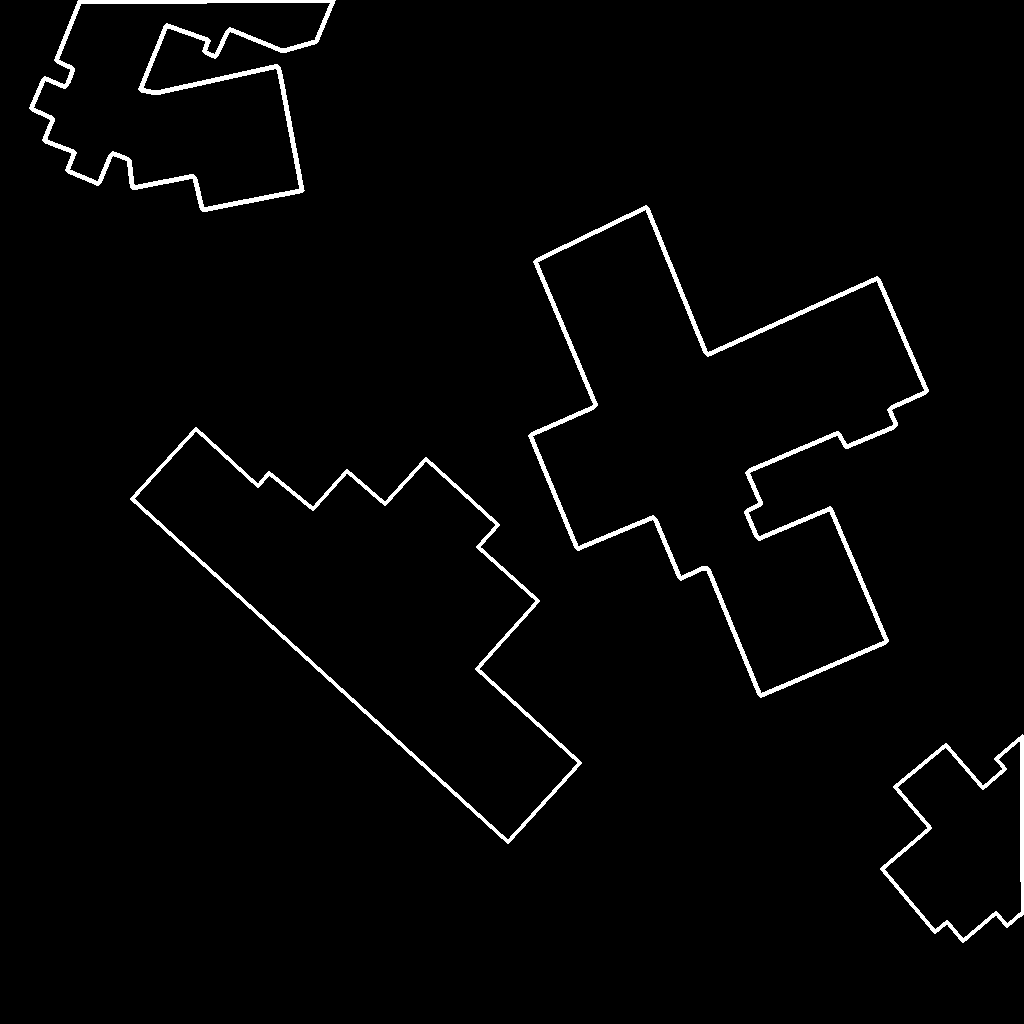building: (530, 207, 928, 697), (132, 429, 581, 843), (31, 0, 335, 211), (882, 736, 1024, 942)
